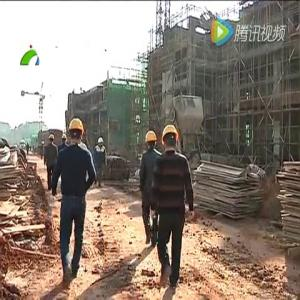yellow: (162, 125, 180, 153), (68, 119, 85, 145), (146, 131, 159, 150)
